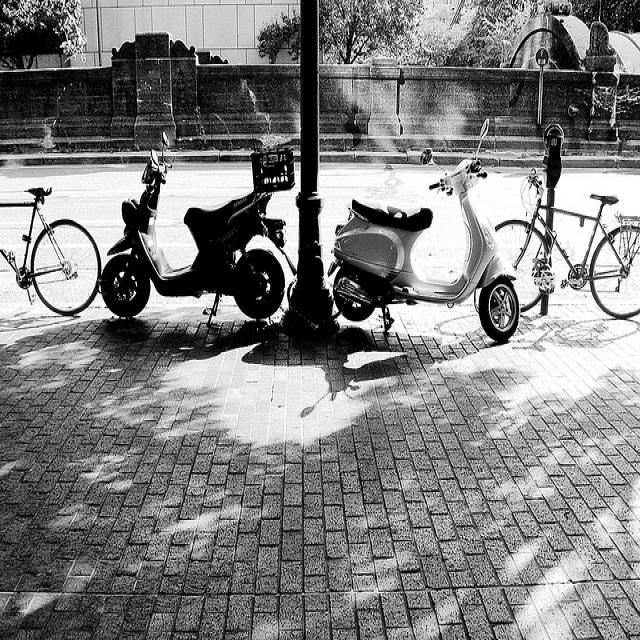motor: (328, 117, 520, 344), (98, 131, 297, 327)
